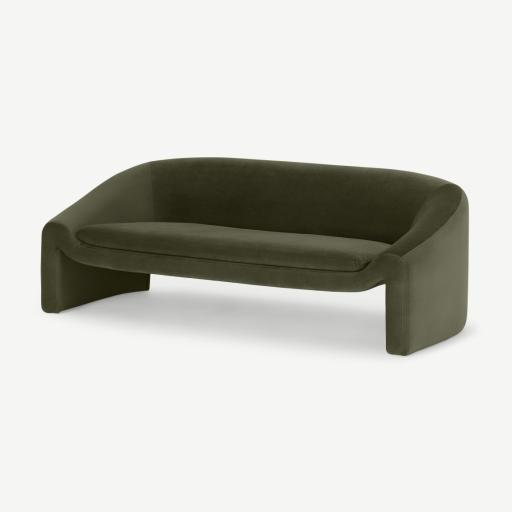back_cushion: (153, 159, 436, 243)
base: (100, 251, 383, 291)
left_arm: (383, 185, 468, 355)
one-seater: (41, 157, 468, 355)
right_arm: (42, 164, 154, 312)
seat_cushion: (76, 222, 388, 272)
